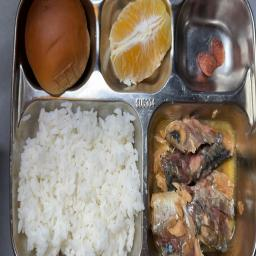100_bread: (25, 4, 95, 92)
100_fish: (147, 105, 245, 251)
100_orange: (106, 2, 174, 88)
100_rice: (21, 104, 141, 253)
25_nuts: (182, 9, 244, 93)
